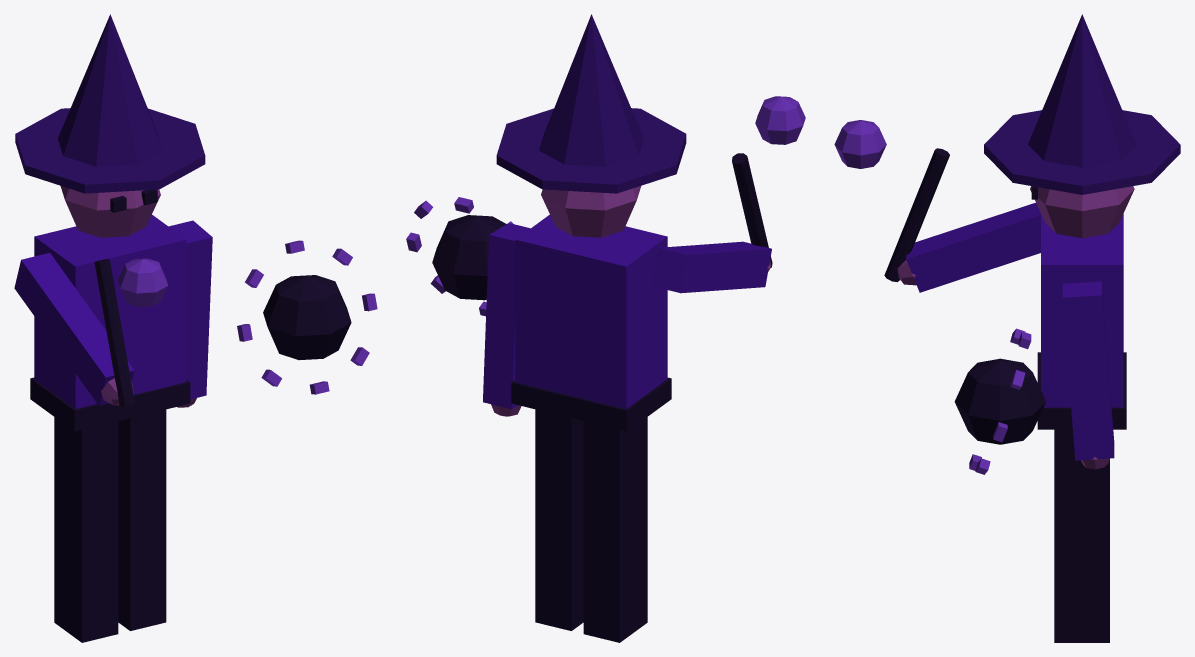
The model's file is SM_Champion_9021_Xul.glb.
3 renders of one model, left to right at view 1: azimuth 30°, elevation 25°; view 2: azimuth 150°, elevation 25°; view 3: azimuth 270°, elevation 25°, orthographic.
Parts seen in each view (by area): view 1: SM_Champion_9021_Xul; view 2: SM_Champion_9021_Xul; view 3: SM_Champion_9021_Xul.
Part boxes in pixels (x1,y1,x2,y2): SM_Champion_9021_Xul: [14, 14, 377, 642]; SM_Champion_9021_Xul: [406, 14, 805, 642]; SM_Champion_9021_Xul: [834, 14, 1180, 642].
Bounding box in the file's own units: 1.11 × 1.99 × 1.02.
